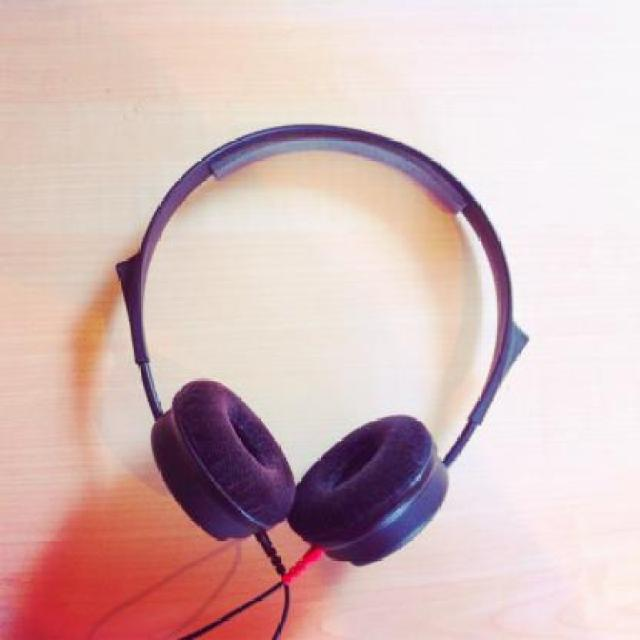earphone: (101, 92, 552, 568)
